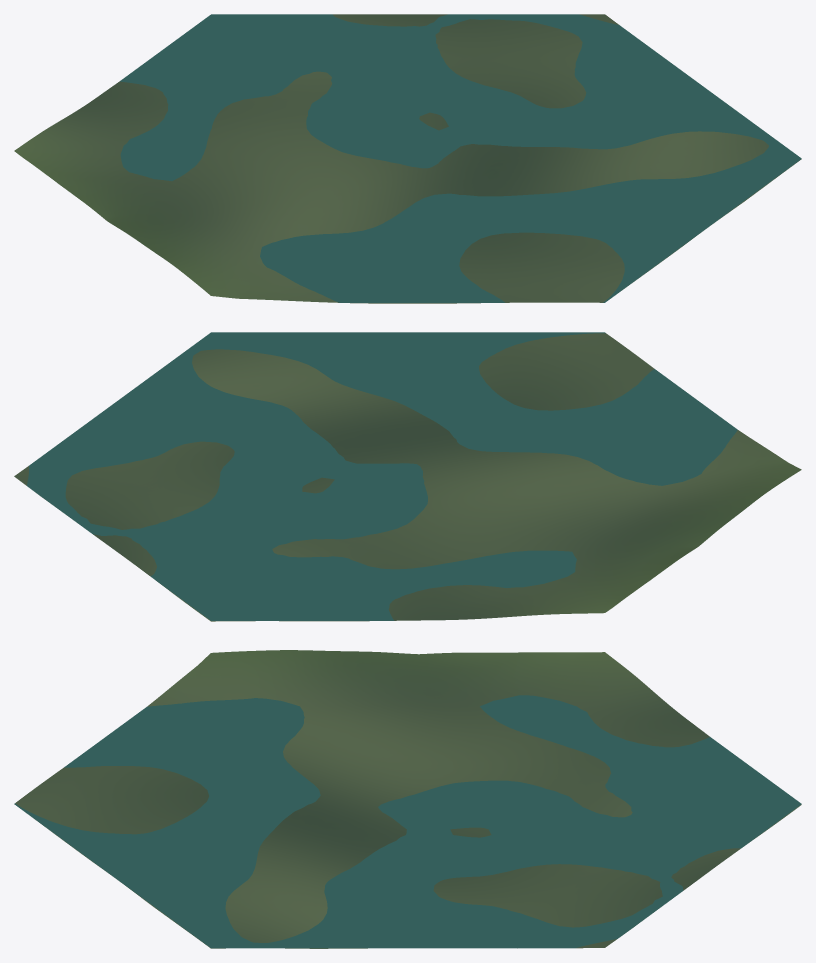
3 renders of one model, top to bottom at view 1: azimuth 30°, elevation 25°; view 2: azimuth 150°, elevation 25°; view 3: azimuth 270°, elevation 25°, orthographic.
Visible parts, largest first — view 1: Lâmina estática PT_+2_13, PT_+2_13; view 2: Lâmina estática PT_+2_13, PT_+2_13; view 3: Lâmina estática PT_+2_13, PT_+2_13.
Boxes of the visible parts, bbox=[...] form: Lâmina estática PT_+2_13: bbox=[119, 14, 801, 302]; PT_+2_13: bbox=[14, 14, 801, 303]; Lâmina estática PT_+2_13: bbox=[27, 332, 737, 620]; PT_+2_13: bbox=[14, 333, 801, 621]; Lâmina estática PT_+2_13: bbox=[14, 695, 801, 948]; PT_+2_13: bbox=[15, 650, 801, 948].
Bounding box in the file's own units: 4330 × 75.16 × 5000.
